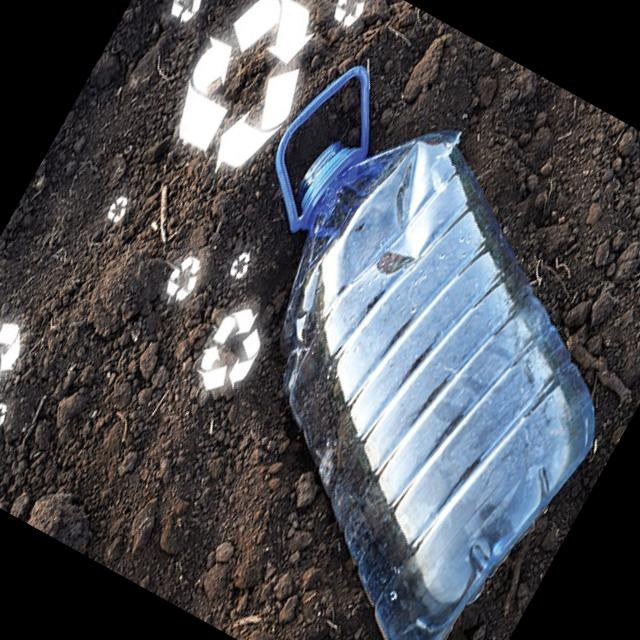Galon: (85, 41, 640, 640)
